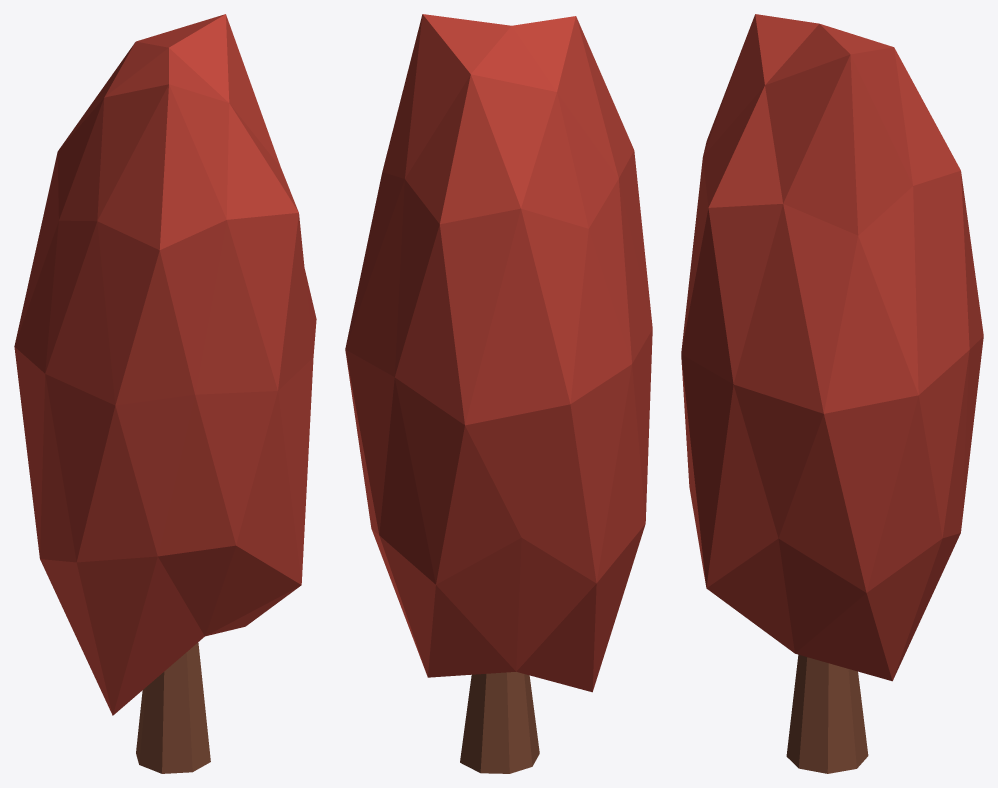
The model's file is Tree_05_summer_red_vc.fbx.
3 views of the same model, side by side, from view 1: azimuth 30°, elevation 25°; view 2: azimuth 150°, elevation 25°; view 3: azimuth 270°, elevation 25° (orthographic). The views are drawn at different scales.
Visible parts, largest first — view 1: Tree_05_summer_red_vc; view 2: Tree_05_summer_red_vc; view 3: Tree_05_summer_red_vc.
Boxes of the visible parts, x1,y1,x2,y2 form: Tree_05_summer_red_vc: (14,14,316,773); Tree_05_summer_red_vc: (345,14,652,773); Tree_05_summer_red_vc: (681,14,983,773).
Bounding box in the file's own units: 104 × 266 × 99.25.
